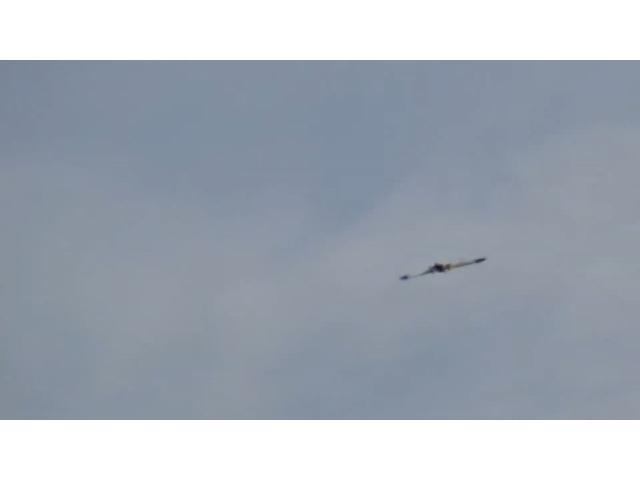Anti-Drone: (401, 258, 487, 282)
